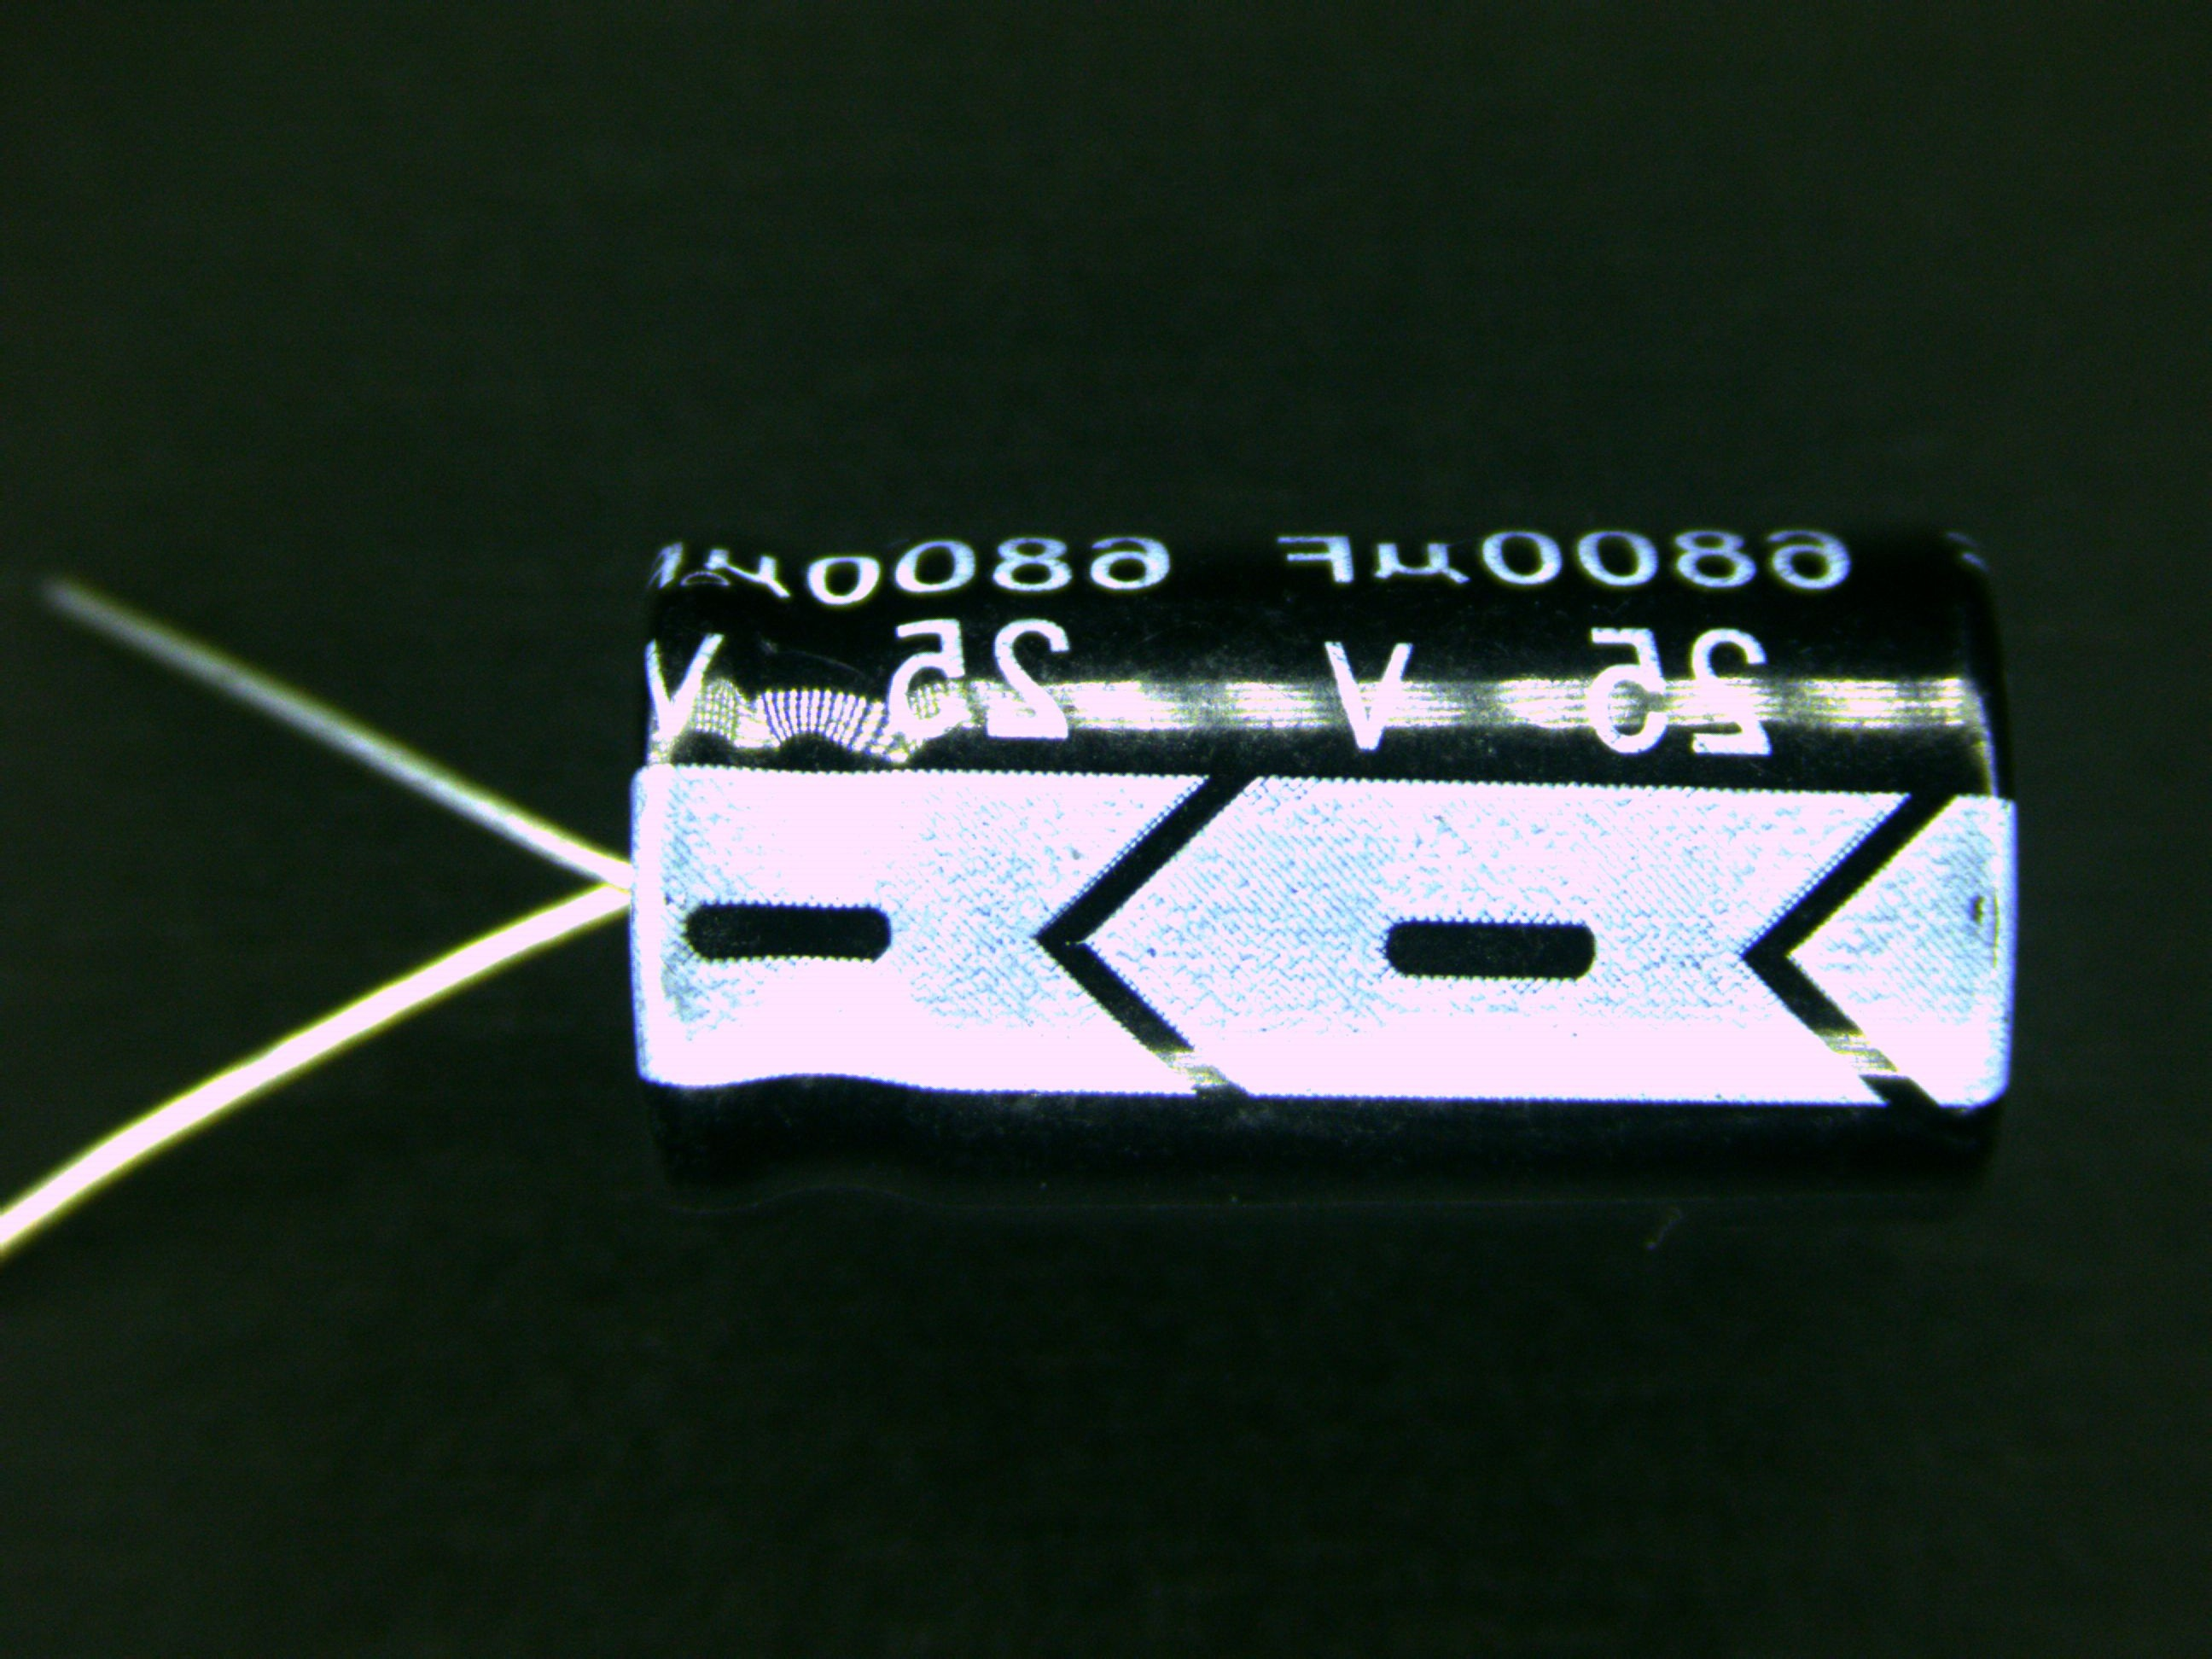c3: (308, 505, 2029, 1239)
